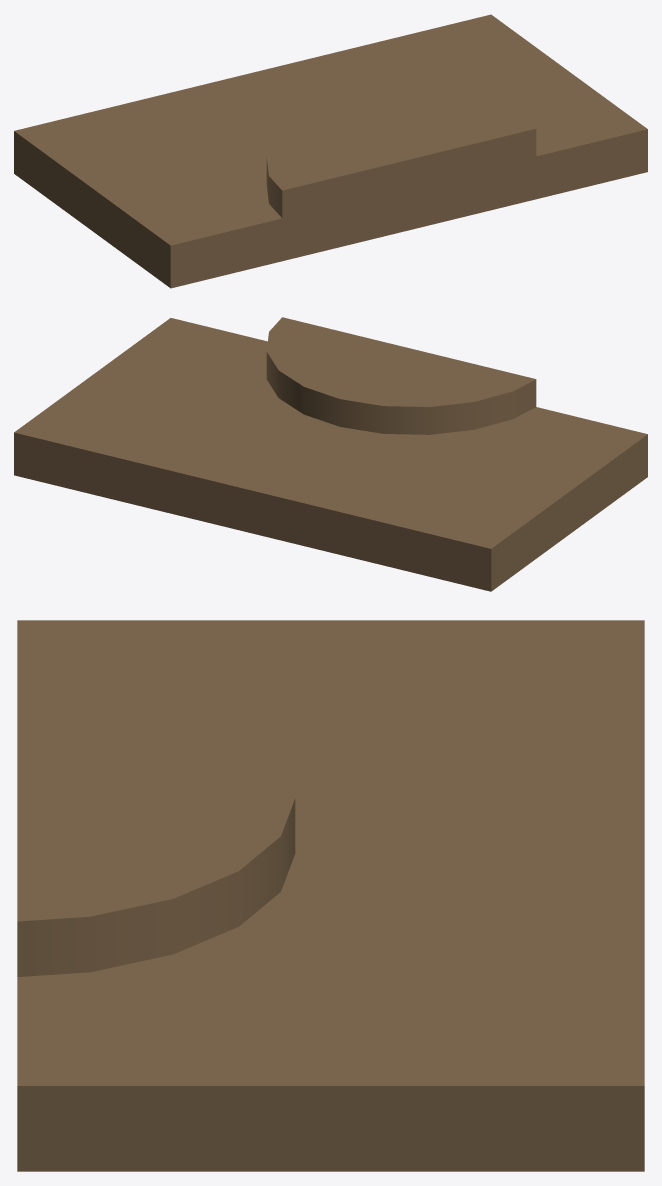
The model's file is right_trash_door.fbx.
The picture shows the model from 3 angles, top to bottom: view 1: azimuth 30°, elevation 25°; view 2: azimuth 150°, elevation 25°; view 3: azimuth 270°, elevation 25°; orthographic projection. The views are drawn at different scales.
Parts seen in each view (by area): view 1: polySurface79; view 2: polySurface79; view 3: polySurface79.
Boxes of the visible parts, bbox=[...] form: polySurface79: bbox=[14, 14, 647, 288]; polySurface79: bbox=[14, 317, 647, 591]; polySurface79: bbox=[17, 620, 644, 1171].
Size of the model in its own units: 0.6498 by 0.0919 by 0.3697.
